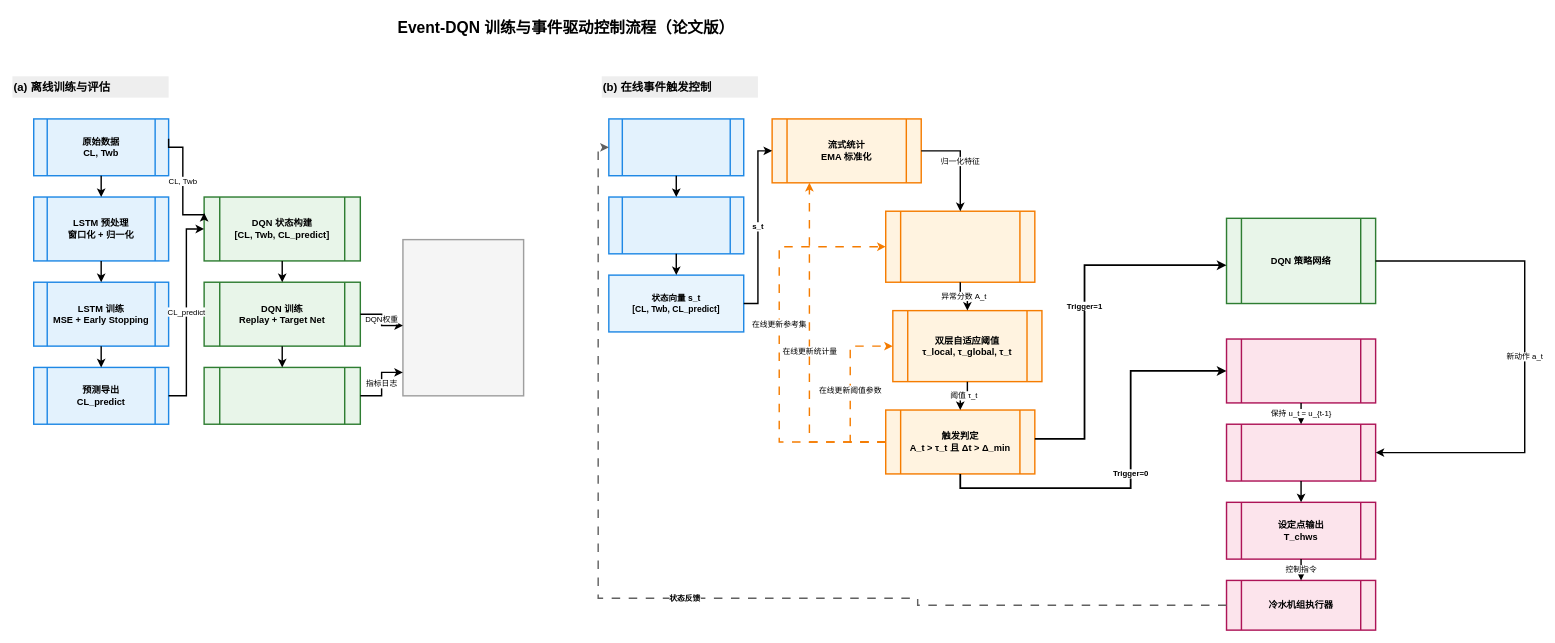
This 1555x643 diagram has some shape labels left out. The centre of each missing label's shape, as x and y in pixels:
LSTM 一步预测 CL_predict: the point at 676,225
ZOH 保持器: the point at 1300,370
产物仓 LSTM.ckpt DQN.ckpt 训练日志: the point at 463,317
动作选择器: the point at 1300,452
实时传感器输入 CL, Twb: the point at 676,147
流式隔离深度 多尺度异常分数 A_t: the point at 960,246
测试评估 Reward / Comfort / Energy: the point at 282,395
